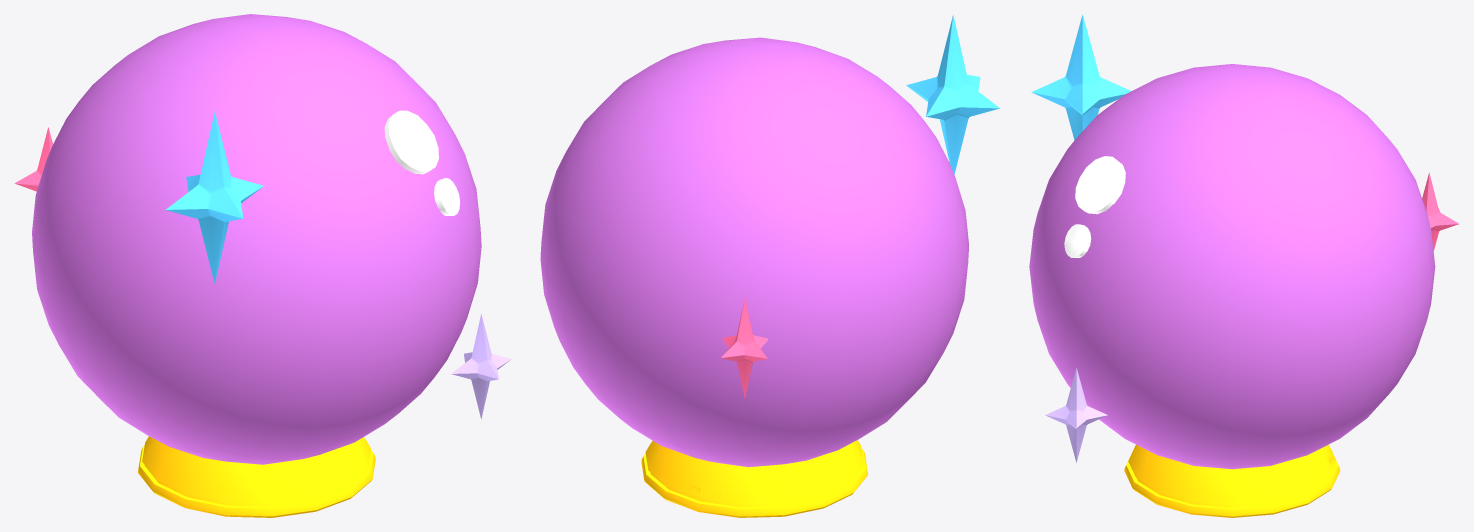
Rendered from crystal_ball.gltf.
3 views of the same model, side by side, from view 1: azimuth 30°, elevation 25°; view 2: azimuth 150°, elevation 25°; view 3: azimuth 270°, elevation 25° (orthographic). The views are drawn at different scales.
Parts seen in each view (by area): view 1: Cube.833; view 2: Cube.833; view 3: Cube.833.
Part boxes in pixels (x1=…): Cube.833: x1=14, y1=14, x2=511, y2=517; Cube.833: x1=540, y1=15, x2=1000, y2=517; Cube.833: x1=1029, y1=14, x2=1458, y2=517.
Size of the model in its own units: 1.88 by 2.07 by 2.
1 material, 1 textured.
